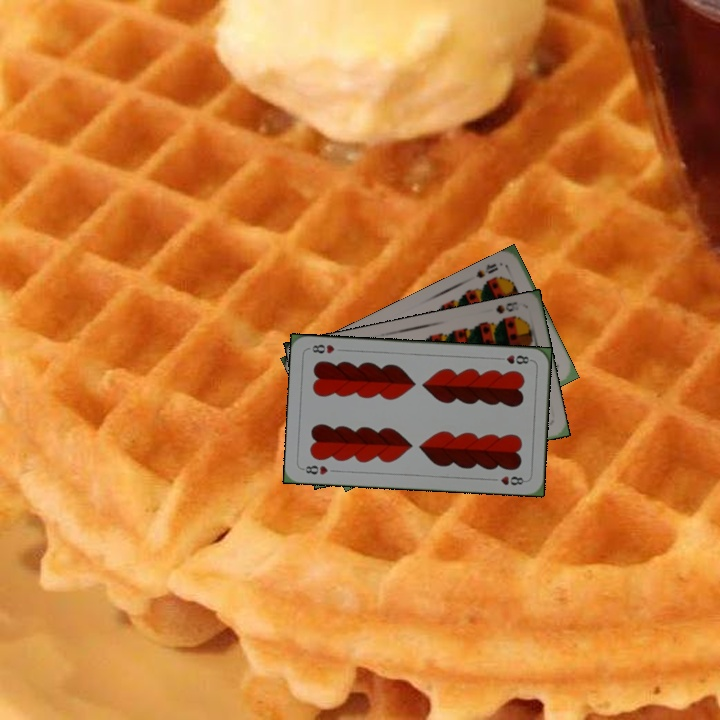H8: (299, 461, 340, 477), (494, 351, 534, 367)
S8: (472, 259, 501, 281), (492, 298, 520, 316)
